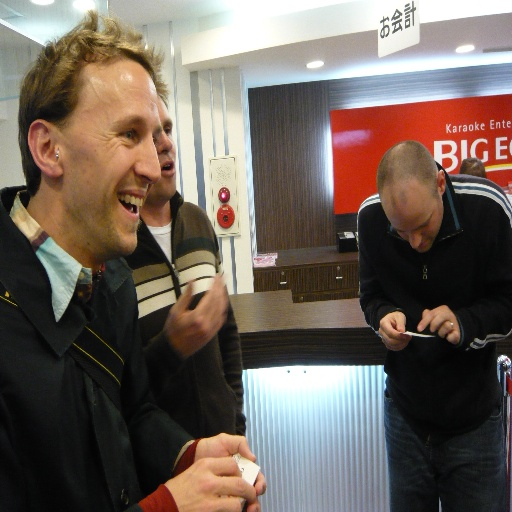hand: (160, 270, 228, 360), (194, 432, 266, 511), (415, 302, 462, 345), (377, 308, 413, 353)
